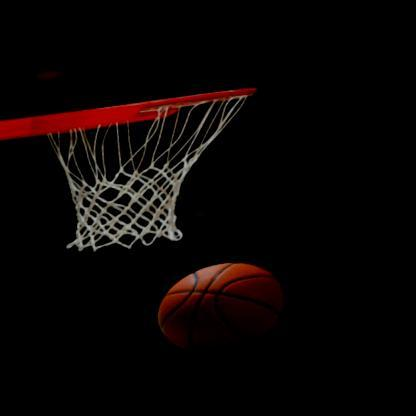basketball: (154, 252, 310, 363)
rim: (28, 83, 281, 258)
